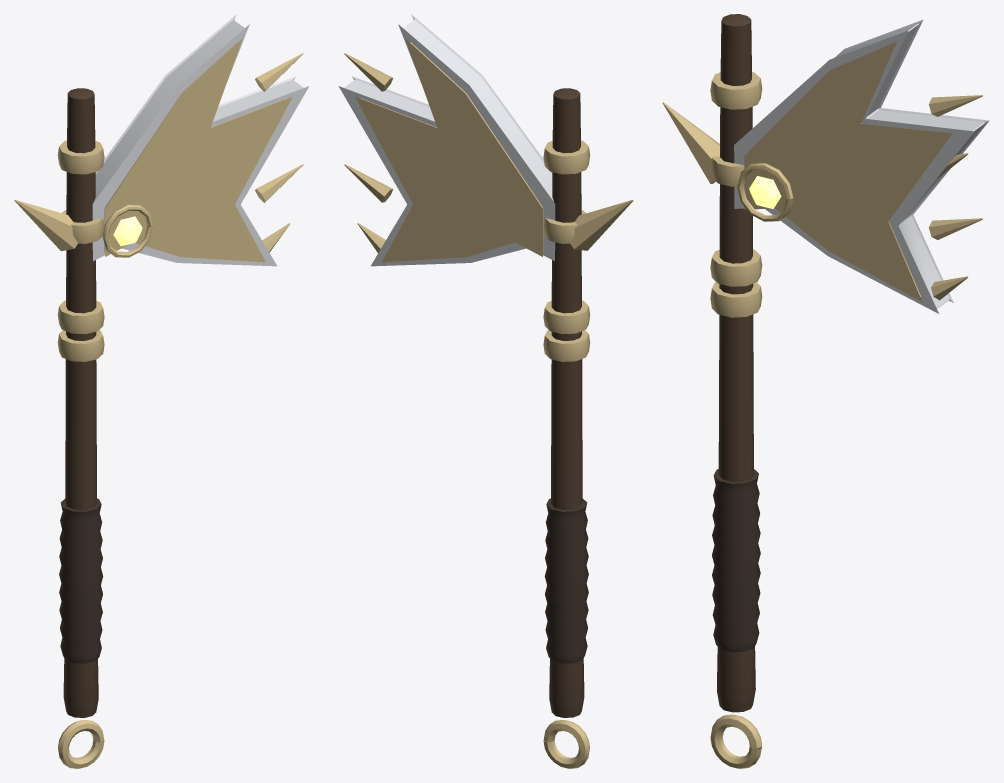
The model's file is artisan_thunder_fork_axe.glb.
The picture shows the model from 3 angles, left to right: view 1: azimuth 30°, elevation 25°; view 2: azimuth 150°, elevation 25°; view 3: azimuth 330°, elevation 25°; orthographic projection. The views are drawn at different scales.
Visible parts, largest first — view 1: artisan_thunder_fork_axe; view 2: artisan_thunder_fork_axe; view 3: artisan_thunder_fork_axe.
Part boxes in pixels (x1=…): artisan_thunder_fork_axe: x1=14, y1=14, x2=309, y2=768; artisan_thunder_fork_axe: x1=338, y1=14, x2=633, y2=768; artisan_thunder_fork_axe: x1=662, y1=14, x2=989, y2=768.
Bounding box in the file's own units: 0.4358 × 1.02 × 0.0702.
